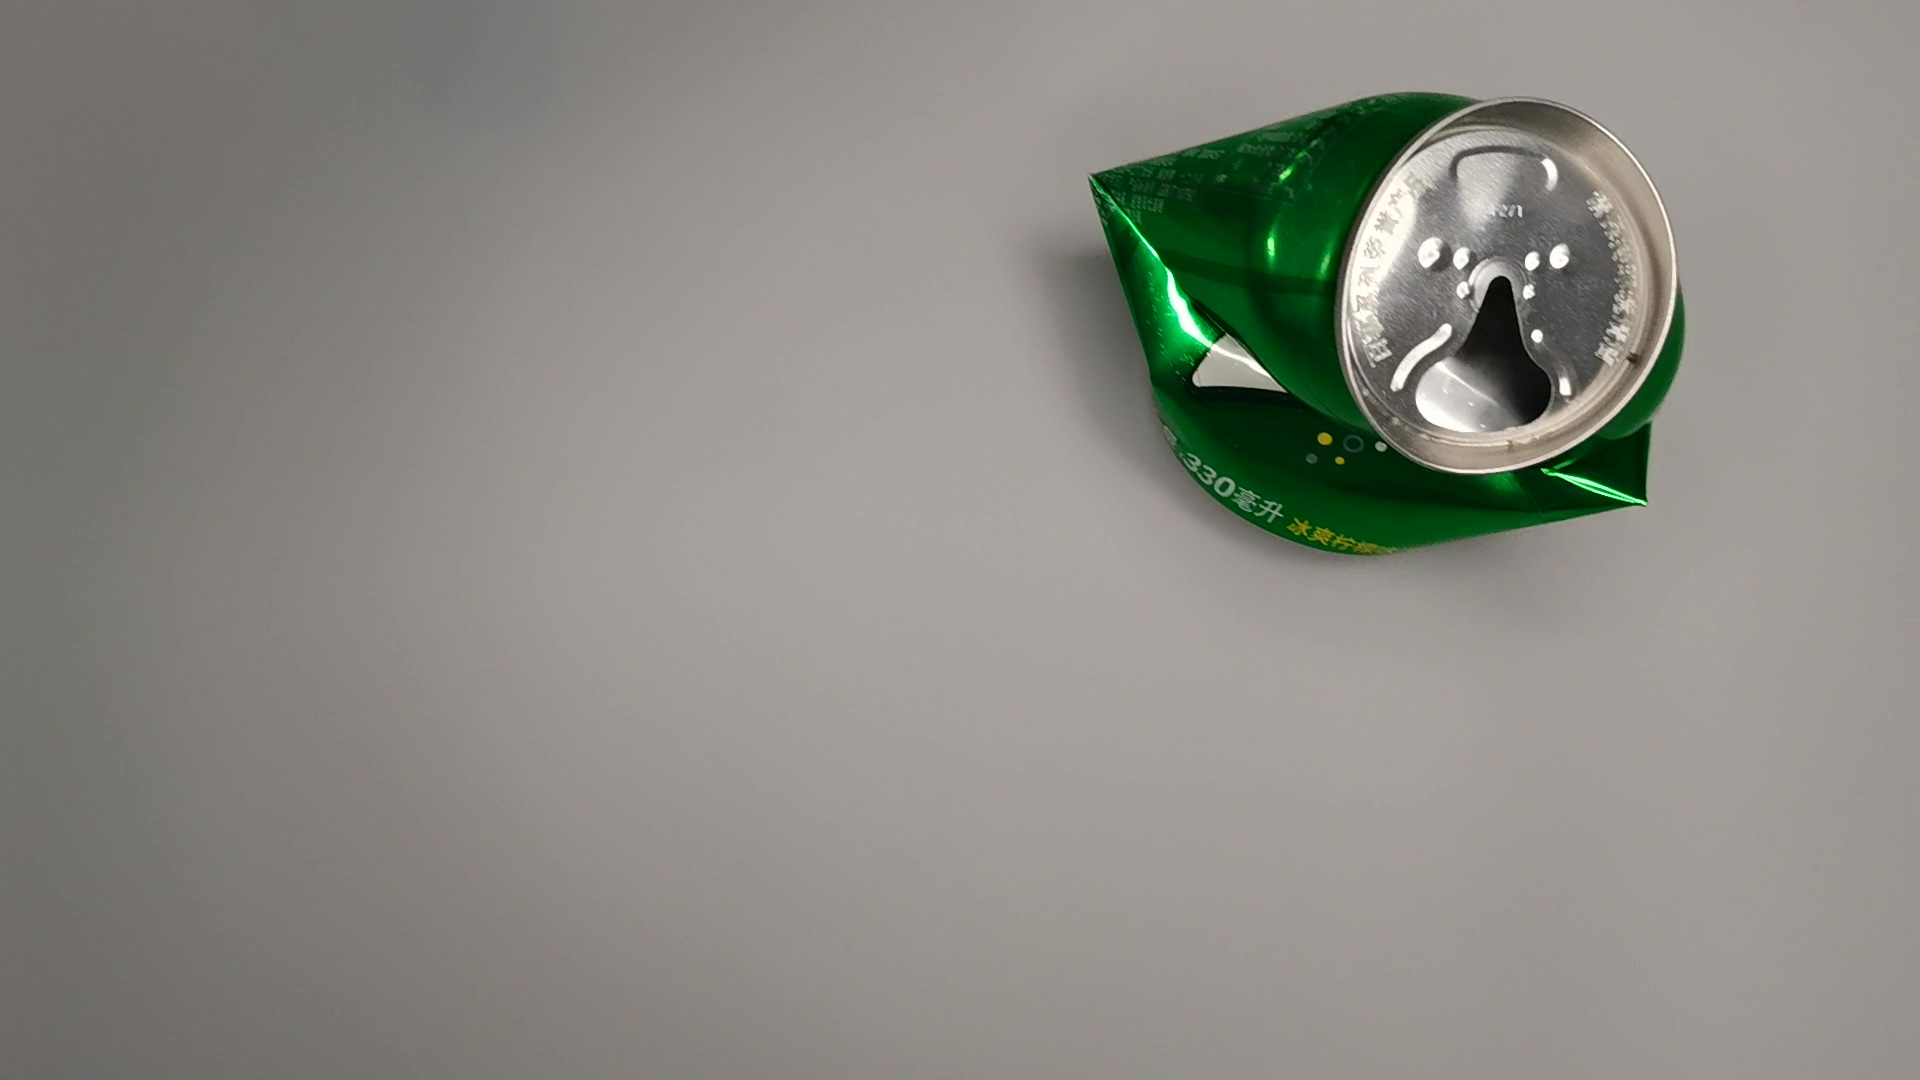can: (1069, 80, 1698, 576)
